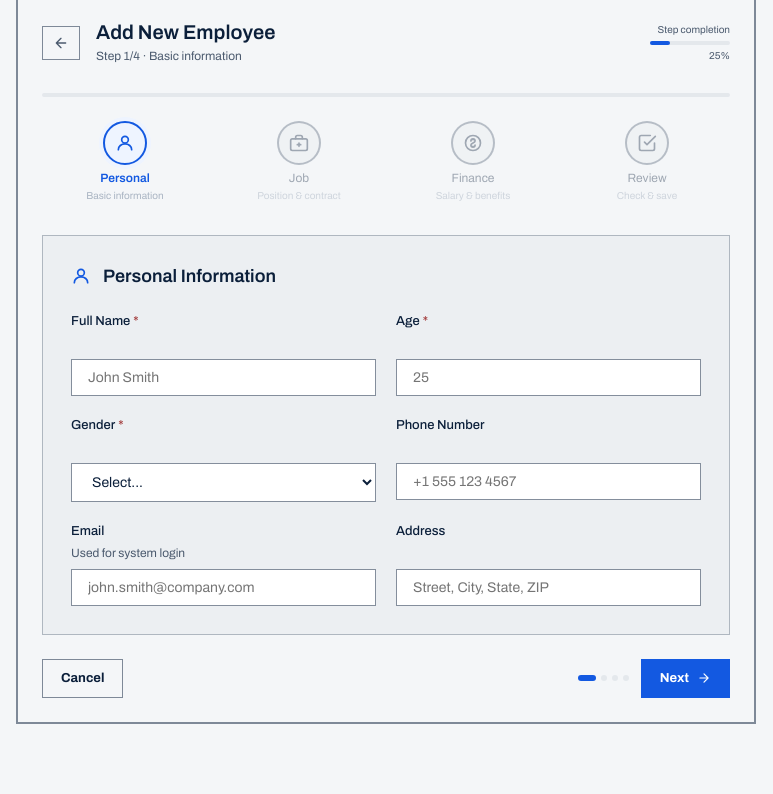
Test: AddEmployee — the extracted step components mount and advance › goes back from Job to Personal without losing entered data
Expected: the heading "Personal Information" is shown, [71, 266, 276, 286]
Type "Alice Nguyen" into the field with placeholder "John Smith".
click(224, 378); type("Alice Nguyen")  # box [71, 359, 376, 396]
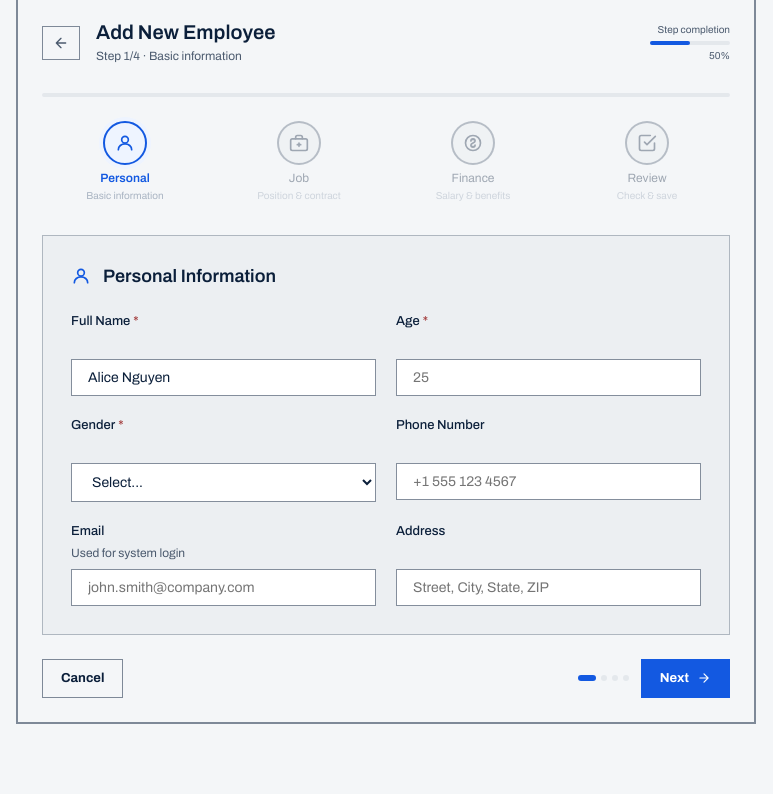
Type "30" into the number field with placeholder "25".
click(548, 378); type("30")  # box [396, 359, 701, 396]
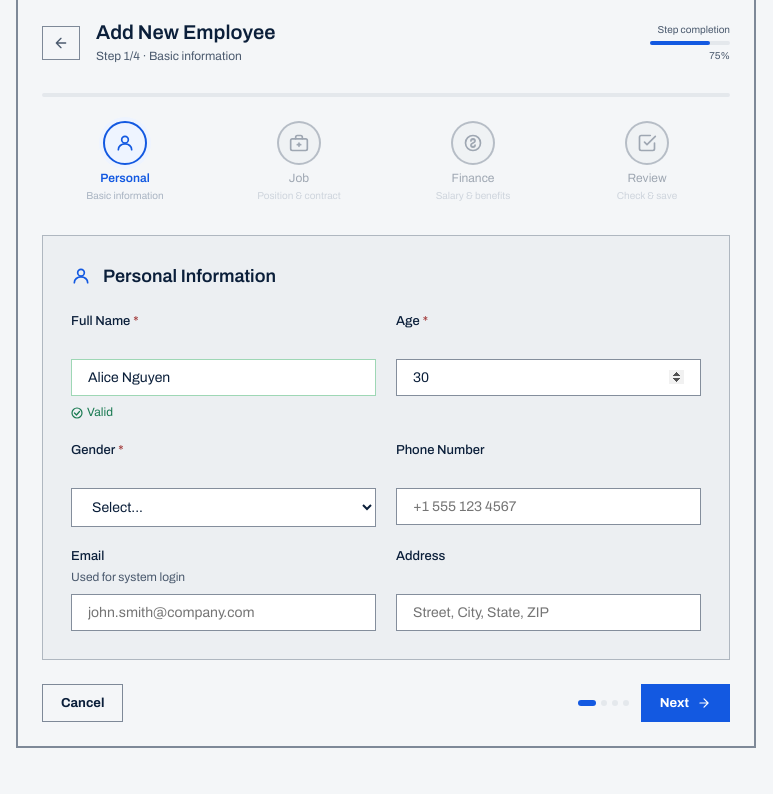
Select "Female" in the dropdown at {"x": 224, "y": 508}, box [71, 488, 376, 527]
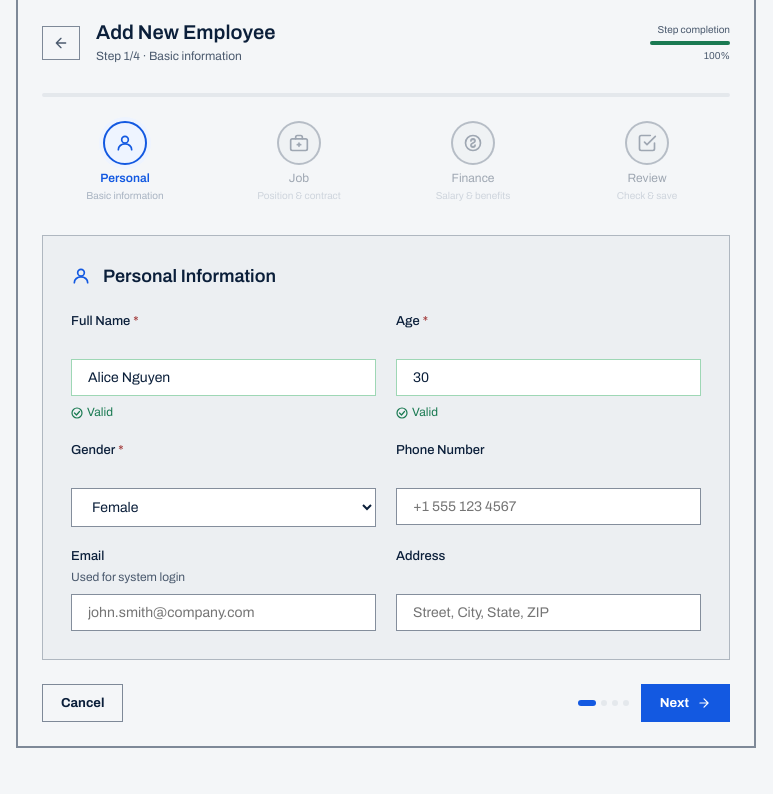
Type "alice@hrms.com" into the field with placeholder "john.smith@company.com".
click(224, 613); type("alice@hrms.com")  # box [71, 594, 376, 631]
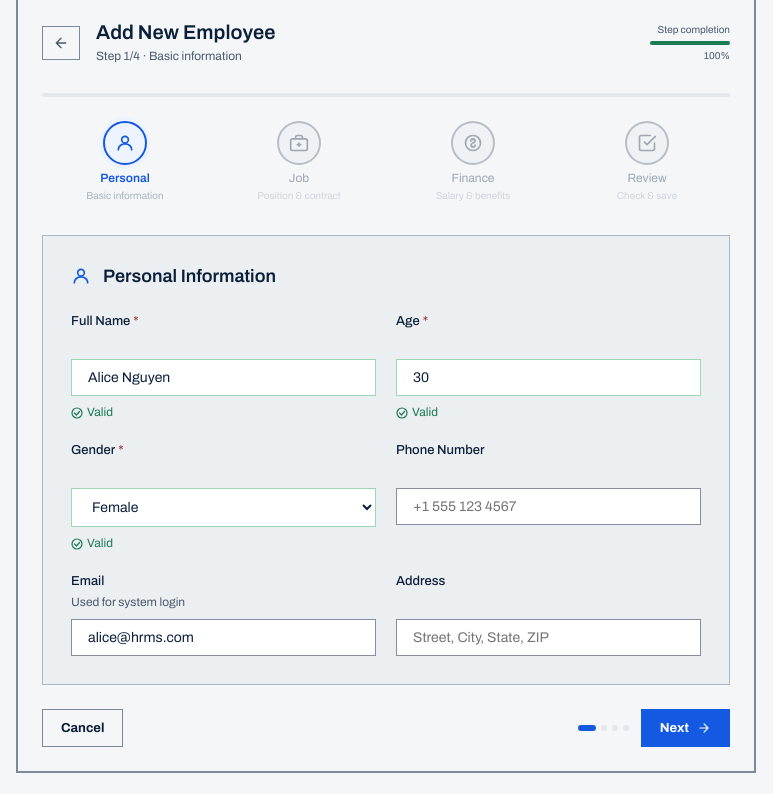
Click the button "Next".
click(685, 728)  # box [641, 709, 730, 747]
(page scrolled)
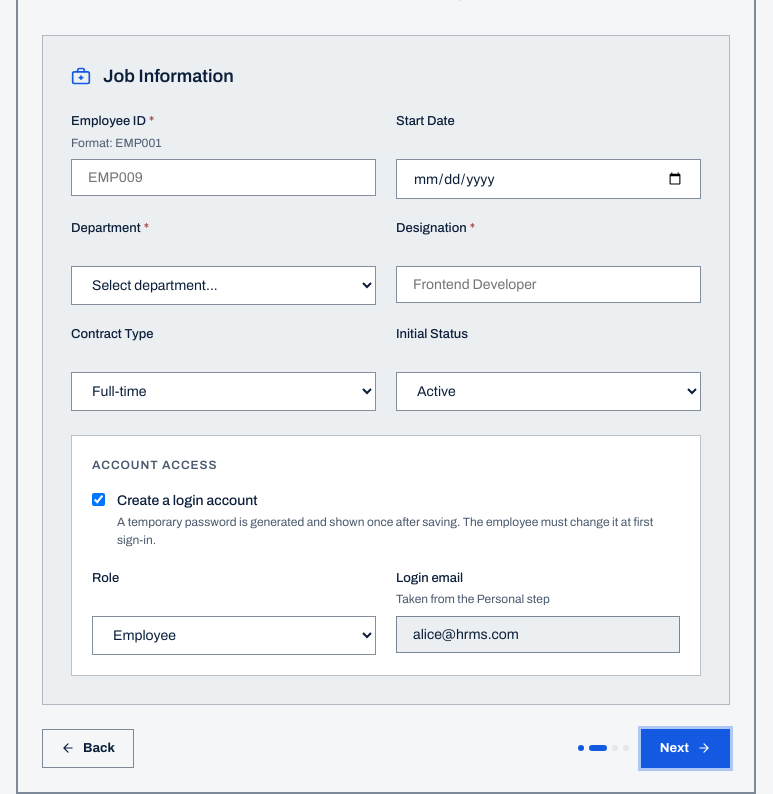
Expected: the heading "Job Information" is shown, [71, 66, 234, 86]
Click the button "Back".
click(88, 748)  # box [42, 729, 134, 768]
(page scrolled)
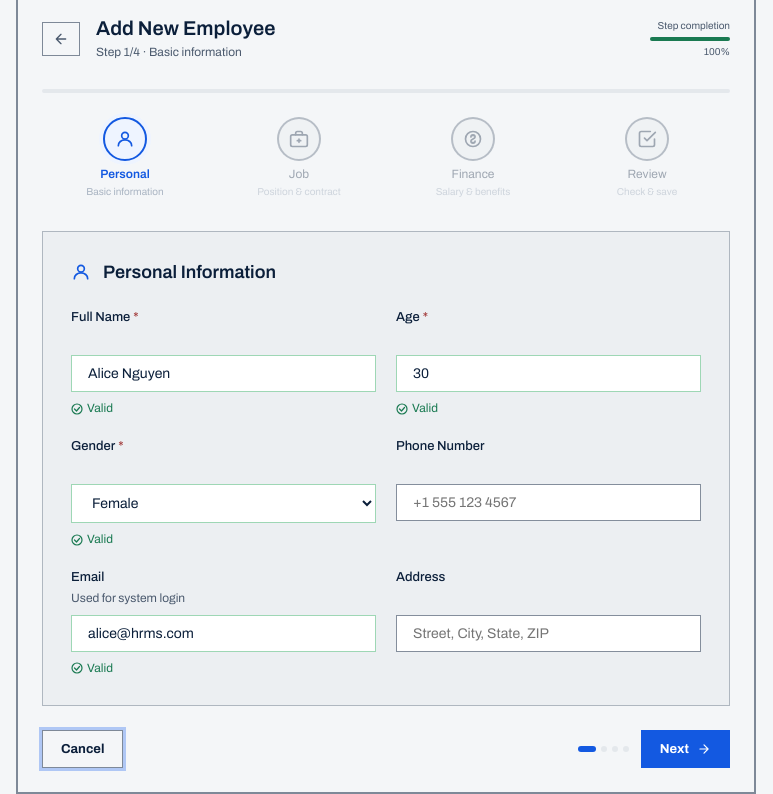
Expected: the heading "Personal Information" is shown, [71, 262, 276, 282]
Expected: the field with placeholder "John Smith" holds "Alice Nguyen", [71, 355, 376, 392]
